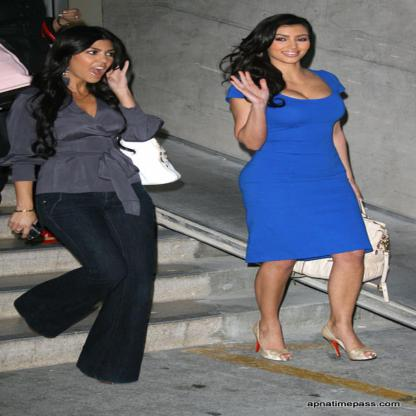face: (66, 38, 116, 84), (267, 26, 311, 65)
